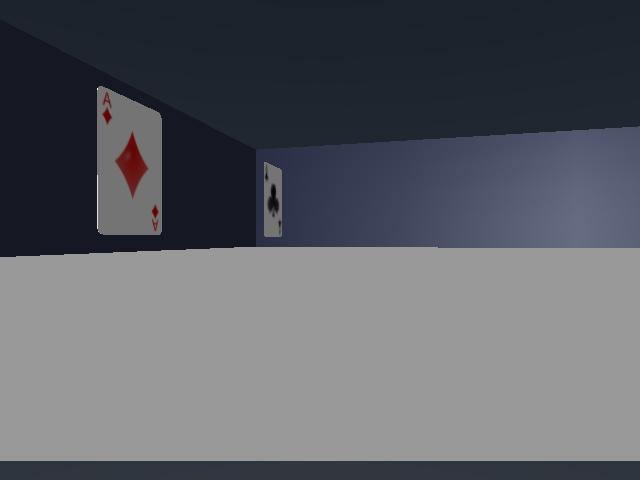club: (263, 162, 281, 236)
diamond: (97, 87, 162, 234)
